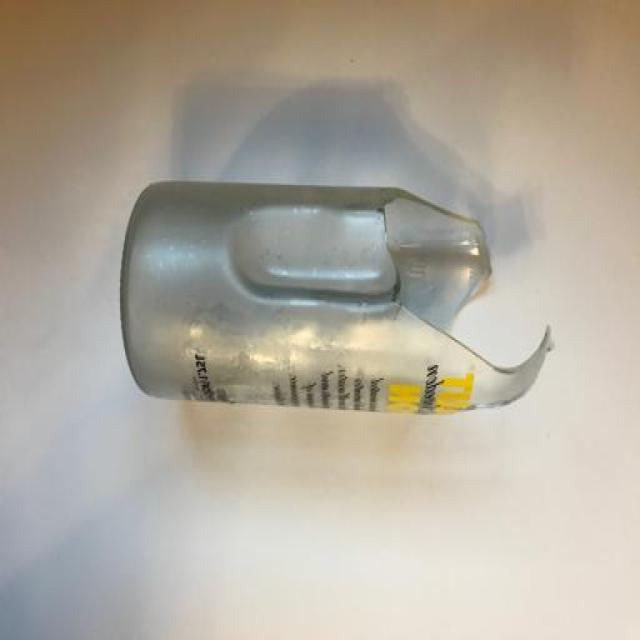glass: (119, 180, 554, 417)
